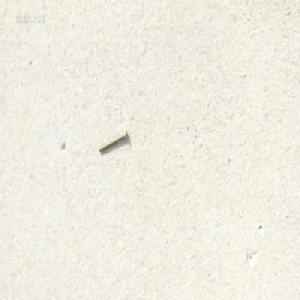Bolt: (98, 128, 128, 153)
